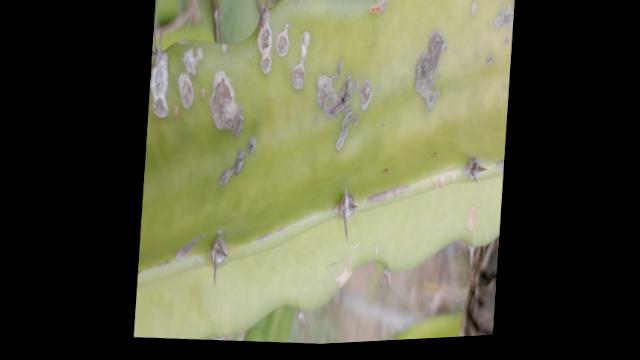stemcanker: (146, 7, 453, 192)
